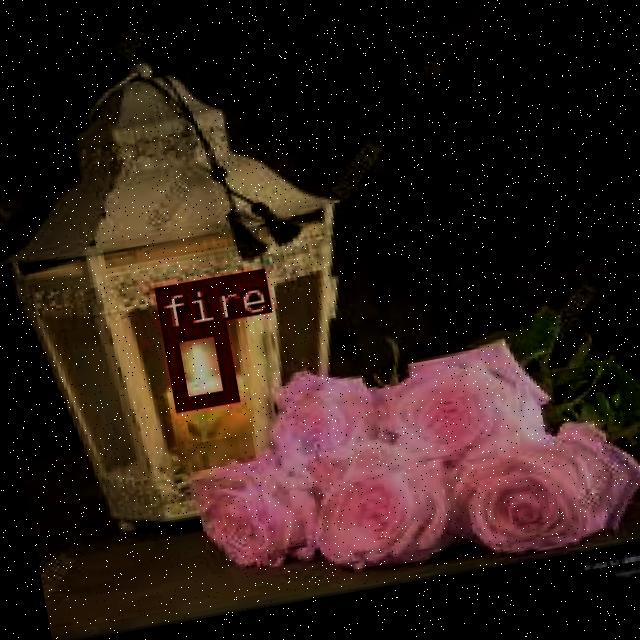fire: (161, 317, 236, 408)
